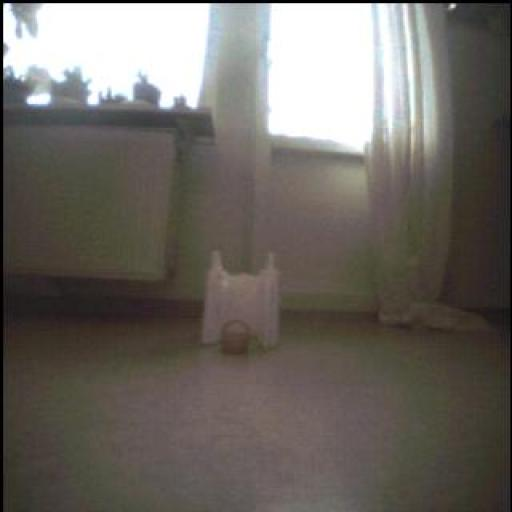Basket: (222, 321, 252, 355)
